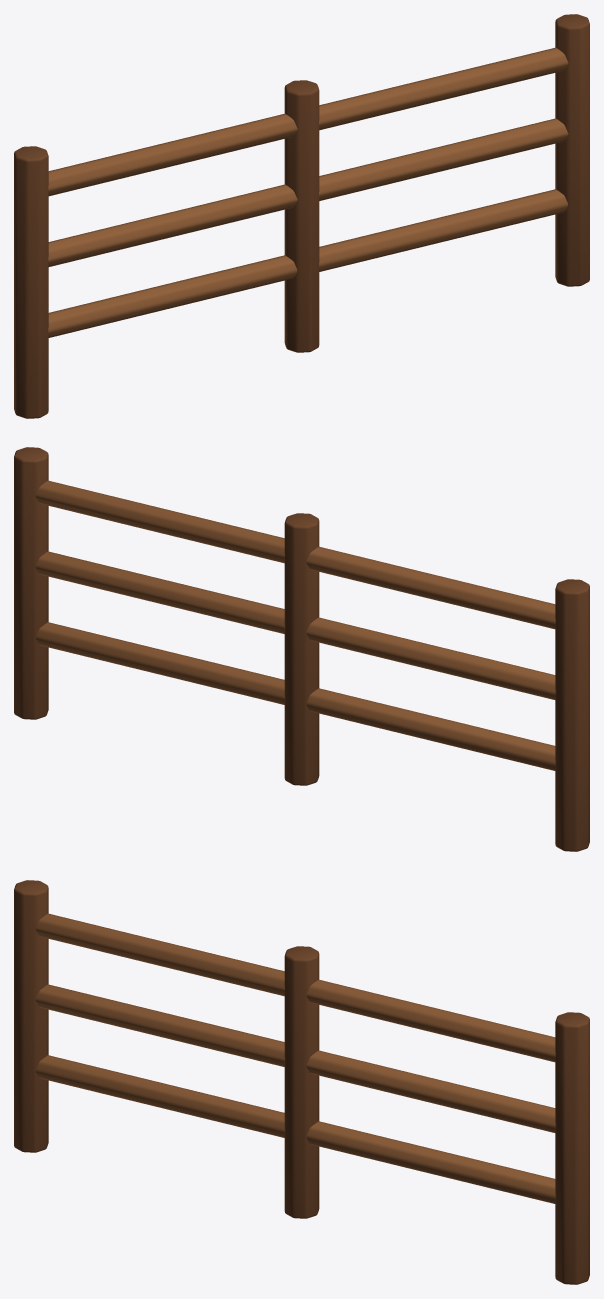
Rendered from fence.glb.
The picture shows the model from 3 angles, top to bottom: view 1: azimuth 30°, elevation 25°; view 2: azimuth 150°, elevation 25°; view 3: azimuth 330°, elevation 25°; orthographic projection.
Visible parts, largest first — view 1: fence; view 2: fence; view 3: fence.
Boxes of the visible parts, x1,y1,x2,y2 form: fence: (14,14,589,418); fence: (14,447,589,851); fence: (14,880,589,1284).
Bounding box in the file's own units: 2.54 × 1.1 × 0.1363.
